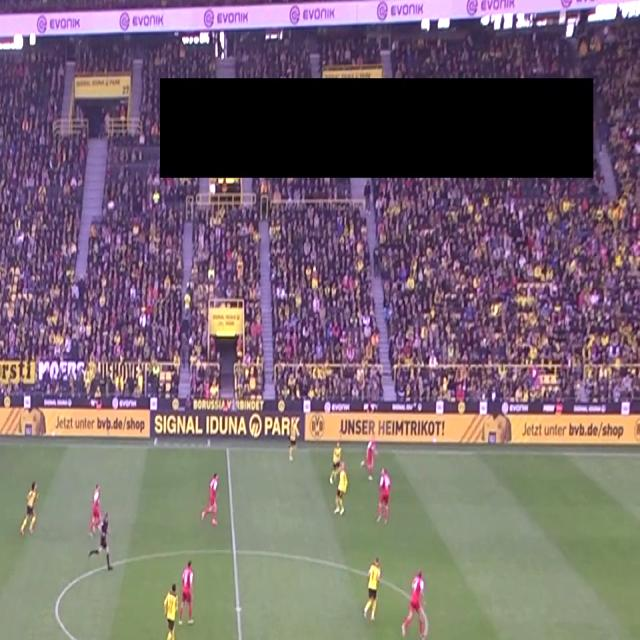referee: (84, 506, 117, 580)
soccer-player: (399, 565, 434, 640), (357, 554, 387, 626), (13, 478, 44, 543), (197, 473, 227, 537), (374, 468, 400, 531), (332, 458, 354, 521), (161, 578, 182, 640), (87, 475, 107, 539), (179, 553, 197, 623), (283, 412, 302, 466), (359, 431, 379, 480), (328, 435, 342, 484)
